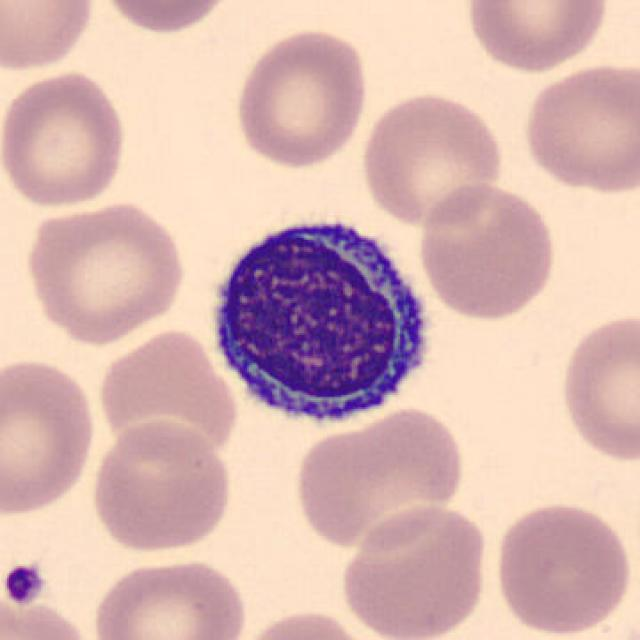Lymphocyte: (197, 205, 441, 437)
Platelets: (0, 560, 48, 606)
RBC: (290, 405, 469, 552), (20, 198, 190, 346), (336, 499, 492, 640), (357, 88, 507, 229), (94, 324, 240, 468), (230, 23, 372, 171), (87, 416, 237, 555), (490, 497, 634, 638), (416, 180, 558, 322), (0, 67, 132, 212), (0, 354, 100, 518), (519, 60, 638, 196), (87, 553, 250, 640), (555, 307, 638, 467), (462, 0, 614, 76), (0, 0, 98, 74), (92, 0, 242, 37), (231, 606, 378, 640), (0, 590, 98, 640)
